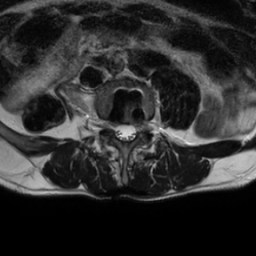CCS_normal: (121, 115, 129, 149)
LFS_normal: (139, 113, 149, 140)
LLS_normal: (129, 116, 138, 142)
RFS_normal: (104, 111, 113, 136)
RLS_normal: (113, 115, 121, 143)
